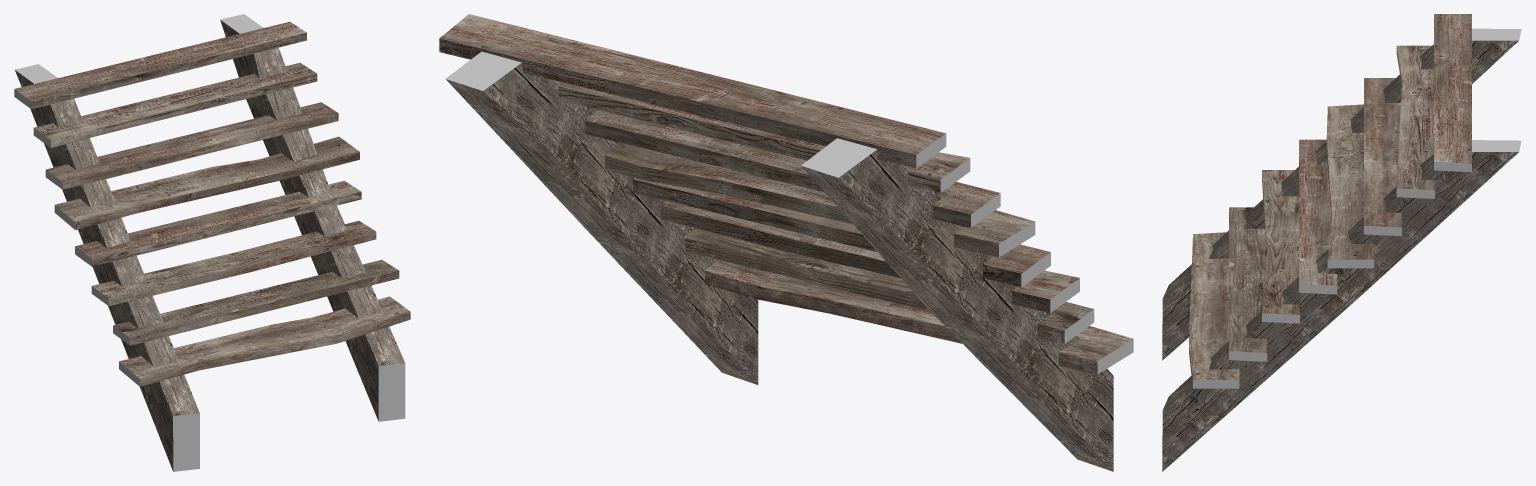
File: Pier_Stairs2.fbx
The picture shows the model from 3 angles, left to right: view 1: azimuth 30°, elevation 25°; view 2: azimuth 150°, elevation 25°; view 3: azimuth 270°, elevation 25°; orthographic projection. The views are drawn at different scales.
Parts seen in each view (by area): view 1: Object041; view 2: Object041; view 3: Object041.
Part boxes in pixels (box(x1,y1,x2,y2)): Object041: box(14, 14, 410, 471); Object041: box(439, 14, 1133, 471); Object041: box(1162, 14, 1521, 471).
Bounding box in the file's own units: 2.99 × 2.92 × 2.95.
